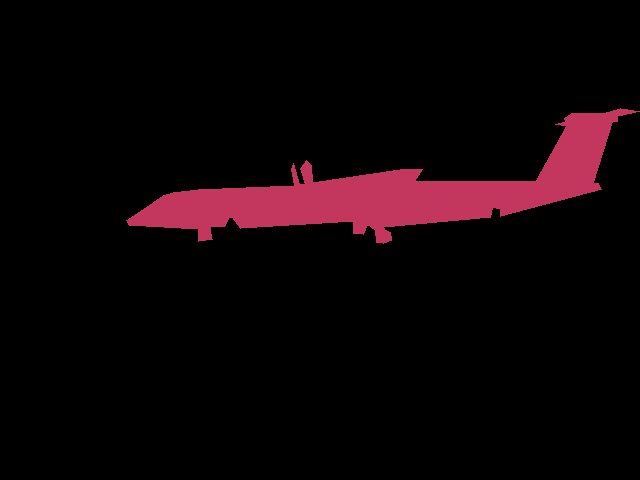Airplane: (126, 108, 640, 244)
